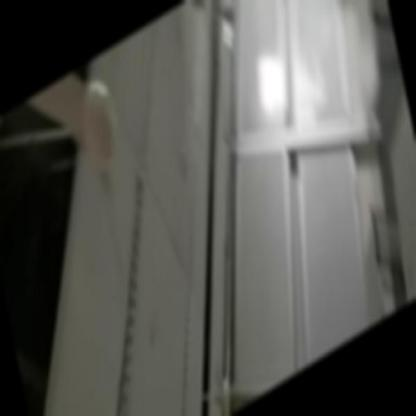light_off: (55, 150, 199, 415)
